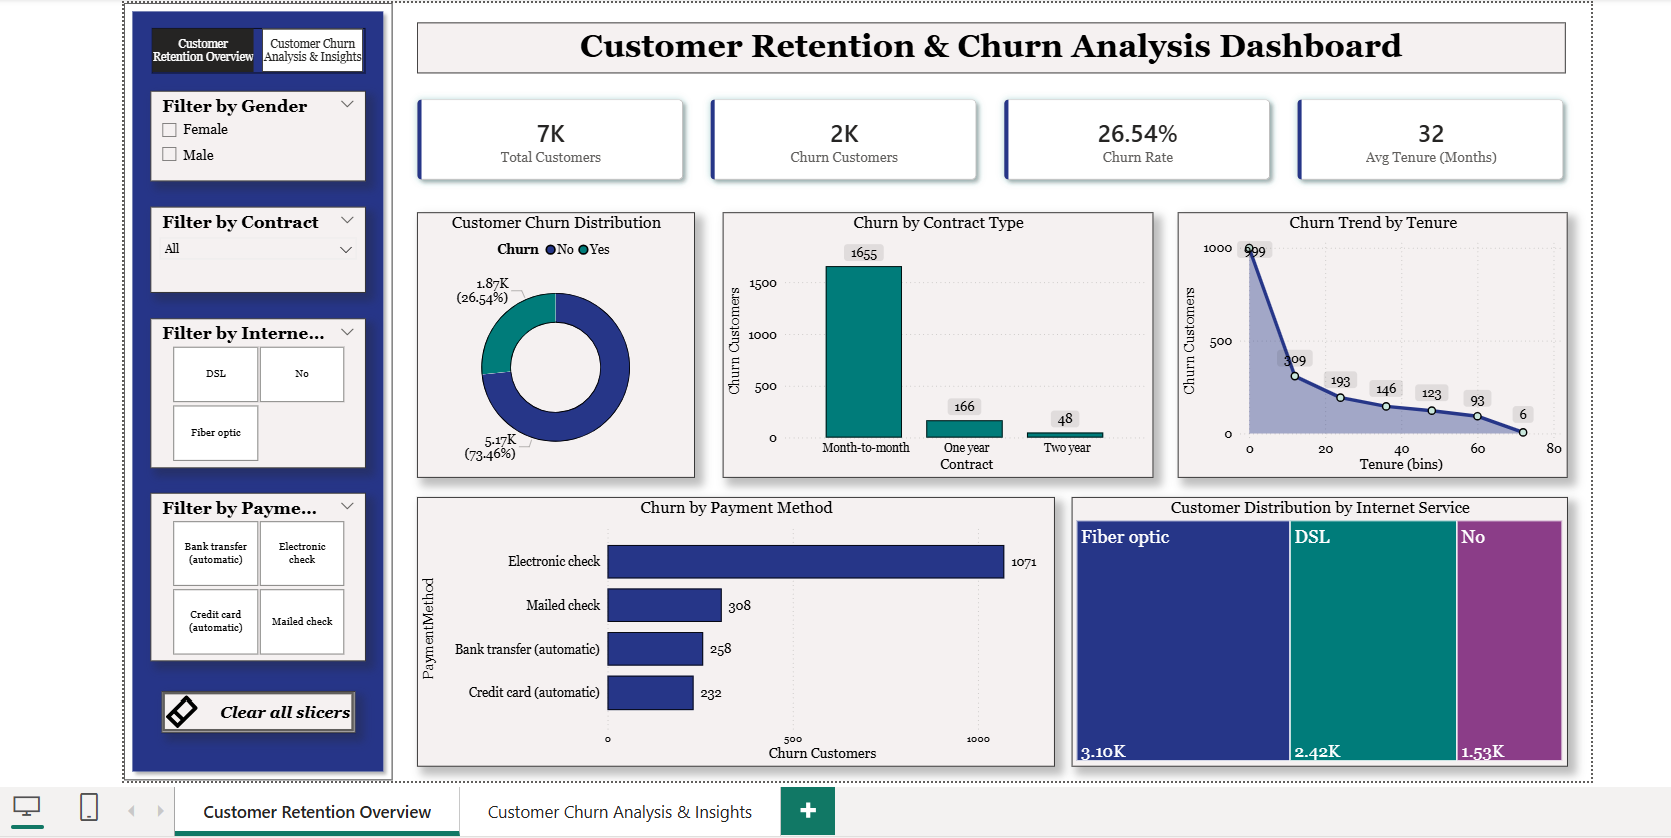

Layout of this report page (visuals, bound fields, positions):
{"tool":"powerbi","page":{"name":"Customer Retention Overview","canvas":[1700,900],"ordinal":0},"visuals":[{"type":"donutChart","title":"Customer Churn Distribution","fields":{"Category":["Telecom Customer Churn Dataset.Churn"],"Y":["CountNonNull(Telecom Customer Churn Dataset.CustomerID)"]},"box":[339.5,242,321.4,307],"z":0},{"type":"clusteredColumnChart","title":"Churn by Contract Type","fields":{"Category":["Telecom Customer Churn Dataset.Contract"],"Y":["Telecom Customer Churn Dataset.Churn Customers"]},"box":[693.5,242,498.4,307],"z":1000},{"type":"barChart","title":"Churn by Payment Method","fields":{"Category":["Telecom Customer Churn Dataset.PaymentMethod"],"Y":["Telecom Customer Churn Dataset.Churn Customers"]},"box":[339.5,572.5,738.6,310.6],"z":2000},{"type":"lineChart","title":"Churn Trend by Tenure","fields":{"Y":["Telecom Customer Churn Dataset.Churn Customers"],"Category":["Telecom Customer Churn Dataset.Tenure (bins)"]},"box":[1220.8,242,451.5,307],"z":3000},{"type":"treemap","title":"Customer Distribution by Internet Service","fields":{"Group":["Telecom Customer Churn Dataset.InternetService"],"Values":["CountNonNull(Telecom Customer Churn Dataset.CustomerID)"]},"box":[1098,572.5,574.3,310.6],"z":4000},{"type":"textbox","box":[339.3,23.1,1330.6,58.6],"z":5000},{"type":"shape","box":[0,0,310.6,899.3],"z":6000},{"type":"cardVisual","fields":{"Data":["Telecom Customer Churn Dataset.Total Customers","Telecom Customer Churn Dataset.Churn Customers","Telecom Customer Churn Dataset.Churn Rate","Telecom Customer Churn Dataset.Avg Tenure (Months)"]},"box":[310.9,81.7,1389.2,151],"z":7000},{"type":"slicer","fields":{"Values":["Telecom Customer Churn Dataset.Gender"]},"box":[30.7,101.7,249.2,104.7],"z":8000},{"type":"slicer","fields":{"Values":["Telecom Customer Churn Dataset.Contract"]},"box":[30.7,235.4,249.2,99.3],"z":9000},{"type":"slicer","fields":{"Values":["Telecom Customer Churn Dataset.InternetService"]},"box":[30.7,365.4,249.2,173.4],"z":10000},{"type":"slicer","fields":{"Values":["Telecom Customer Churn Dataset.PaymentMethod"]},"box":[30.7,567.7,249.2,195],"z":11000},{"type":"actionButton","box":[43.3,797,223.9,47],"z":12000},{"type":"pageNavigator","box":[32.5,28.9,247.4,52.4],"z":13000}]}

Visuals, with their boxes on the page's 1700x900 design canvas (x1, y1, x2, y2). These are canvas units, not pixel positions in the 1671x838 screenshot, which may show the page scaled, cropped or inside an application window:
"Customer Churn Distribution" donutChart: crop(340, 242, 661, 549)
"Churn by Contract Type" clusteredColumnChart: crop(694, 242, 1192, 549)
"Churn by Payment Method" barChart: crop(340, 572, 1078, 883)
"Churn Trend by Tenure" lineChart: crop(1221, 242, 1672, 549)
"Customer Distribution by Internet Service" treemap: crop(1098, 572, 1672, 883)
textbox: crop(339, 23, 1670, 82)
shape: crop(0, 0, 311, 899)
cardVisual - Telecom Customer Churn Dataset.Total Customers x Telecom Customer Churn Dataset.Churn Customers: crop(311, 82, 1700, 233)
slicer - Telecom Customer Churn Dataset.Gender: crop(31, 102, 280, 206)
slicer - Telecom Customer Churn Dataset.Contract: crop(31, 235, 280, 335)
slicer - Telecom Customer Churn Dataset.InternetService: crop(31, 365, 280, 539)
slicer - Telecom Customer Churn Dataset.PaymentMethod: crop(31, 568, 280, 763)
actionButton: crop(43, 797, 267, 844)
pageNavigator: crop(32, 29, 280, 81)
